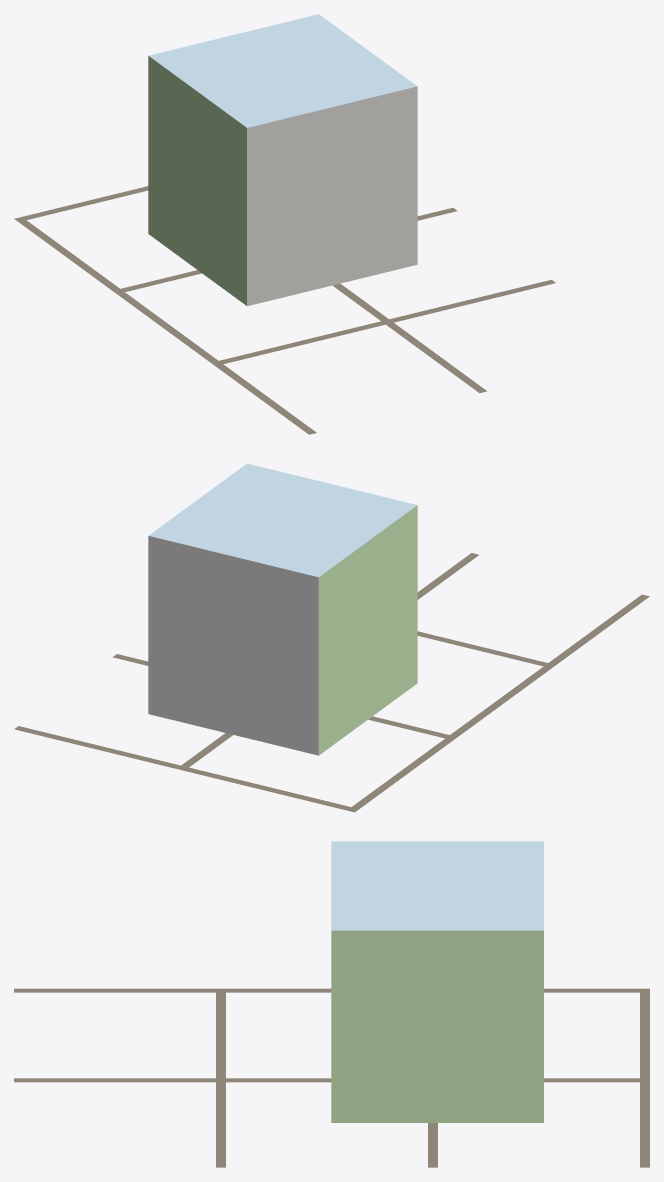
File: Wall_Straight_Basic_1x2_Mid.glb
3 views of the same model, one above another, from view 1: azimuth 30°, elevation 25°; view 2: azimuth 150°, elevation 25°; view 3: azimuth 270°, elevation 25° (orthographic). The views are drawn at different scales.
Visible parts, largest first — view 1: Wall_Straight_Basic_1x2_Mid, Floor; view 2: Wall_Straight_Basic_1x2_Mid, Floor; view 3: Wall_Straight_Basic_1x2_Mid, Floor.
Boxes of the visible parts, x1,y1,x2,y2 form: Wall_Straight_Basic_1x2_Mid: (148, 14, 417, 306); Floor: (14, 186, 555, 434); Wall_Straight_Basic_1x2_Mid: (148, 463, 417, 755); Floor: (14, 553, 649, 812); Wall_Straight_Basic_1x2_Mid: (331, 841, 543, 1122); Floor: (14, 988, 649, 1167).
Size of the model in its own units: 200 by 100 by 300.
Materials: 5 (1 with a texture image).
